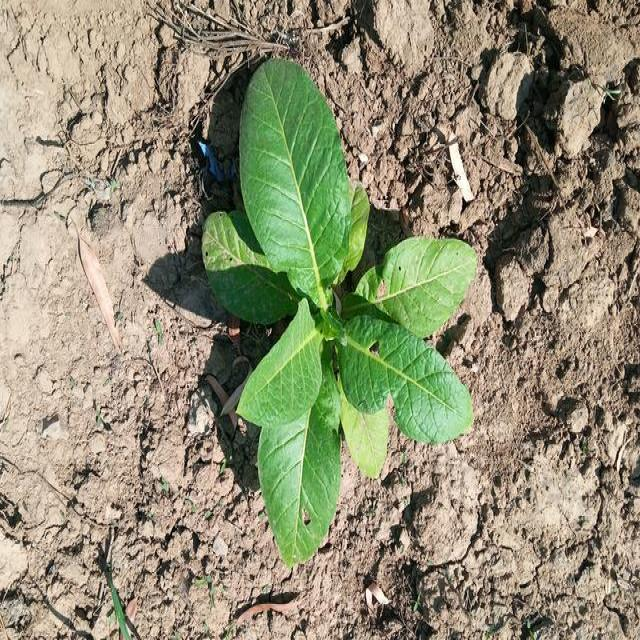crop: (202, 67, 480, 548)
